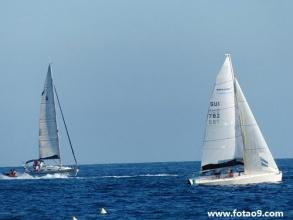fanchuan: (183, 52, 280, 189), (6, 58, 79, 182)
